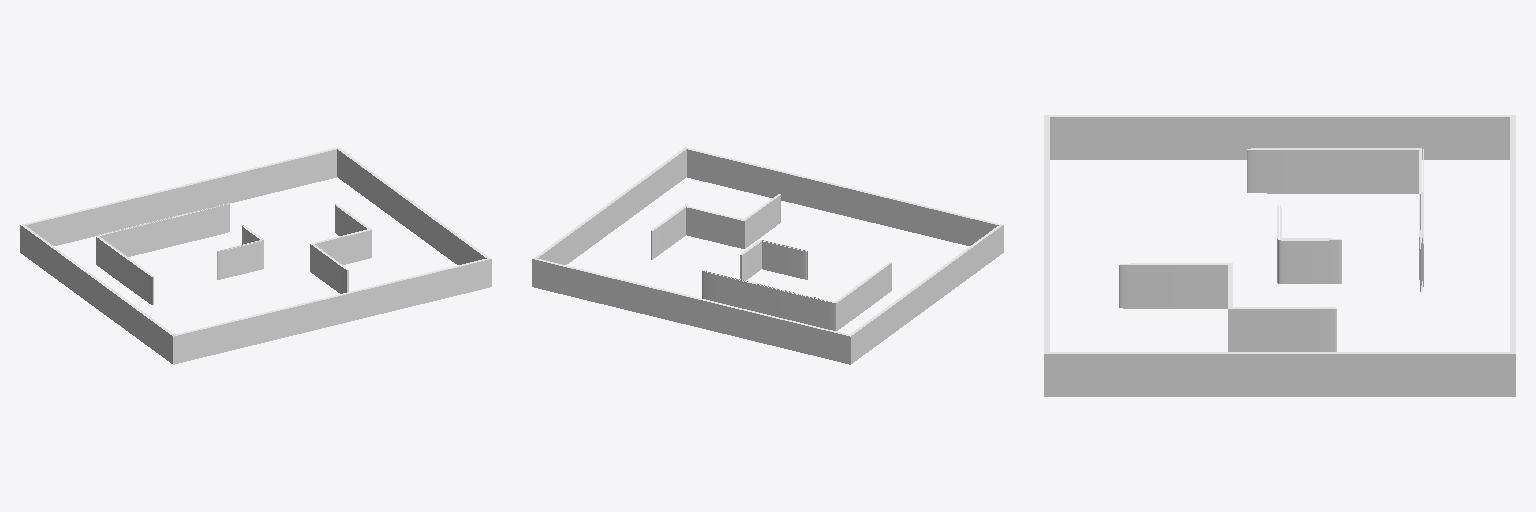
The robot description file, URDF, robot "simple_map_2":
<?xml version="0.0" ?>
<robot name="simple_map_2">
  <link name="baseLink">
    <inertial>
      <origin rpy="0 0 0" xyz="0 0 0"/>
       <mass value="0"/>
       <inertia ixx="0" ixy="0" ixz="0" iyy="0" iyz="0" izz="0" />
    </inertial>
    <visual>
      <origin rpy="1.5707963 0 0" xyz="0 0 5"/>
      <geometry>
		    <mesh filename="simple_map_2.obj" scale="1 1 1"/>
      </geometry>
		  <material name="white">
          <color rgba="1 1 1 1"/>
      </material>
    </visual>
    <collision>
      <origin rpy="1.5707963 0 0" xyz="0 0 5"/>
      <geometry>
          <mesh filename="simple_map_2.obj" scale="1 1 1"/>
      </geometry>
    </collision>
  </link>
</robot>

--- Render facts (derived) ---
3 views of the same robot in one strip: view 1: azimuth 30°, elevation 25°; view 2: azimuth 150°, elevation 25°; view 3: azimuth 270°, elevation 25° (orthographic).
Model simple_map_2 with 1 links and 0 joints (none), rooted at baseLink, posed all joints at 0.
Links seen in each view (by area): view 1: baseLink; view 2: baseLink; view 3: baseLink.
Link boxes in pixels (x1,y1,x2,y2): baseLink: (20,147,491,364); baseLink: (532,147,1003,364); baseLink: (1044,115,1515,396).
Size in the robot's own frame: 9.33 by 7.76 by 0.7888 metres.
1 mesh visuals loaded from 1 distinct referenced files (1 OBJ).
